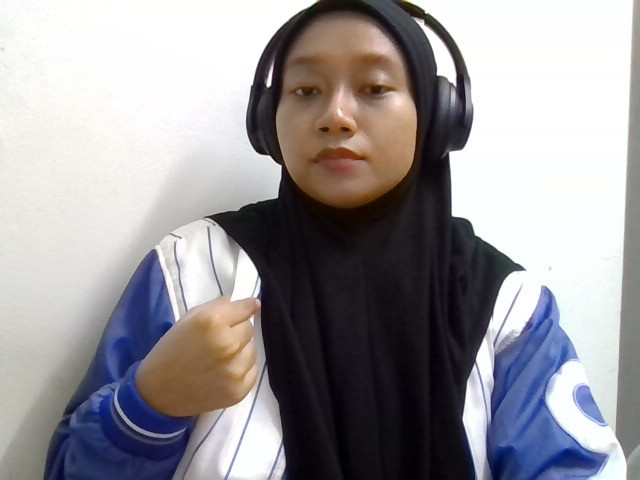Baju: (146, 296, 263, 415)
